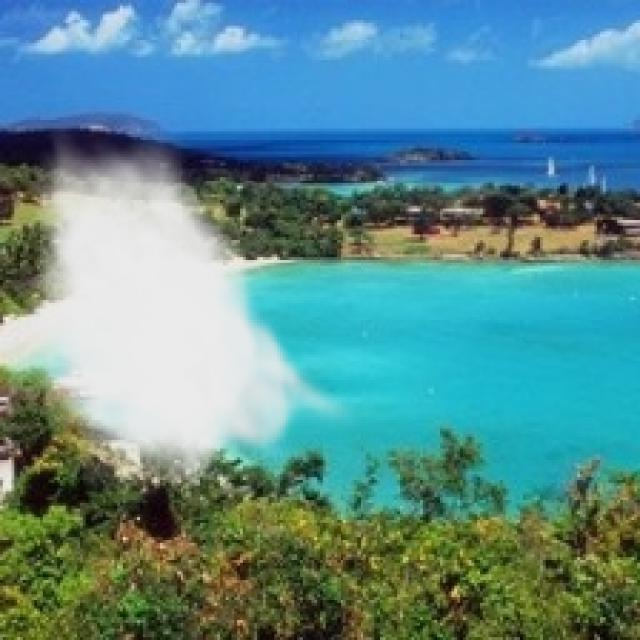smoke: (17, 123, 360, 497)
